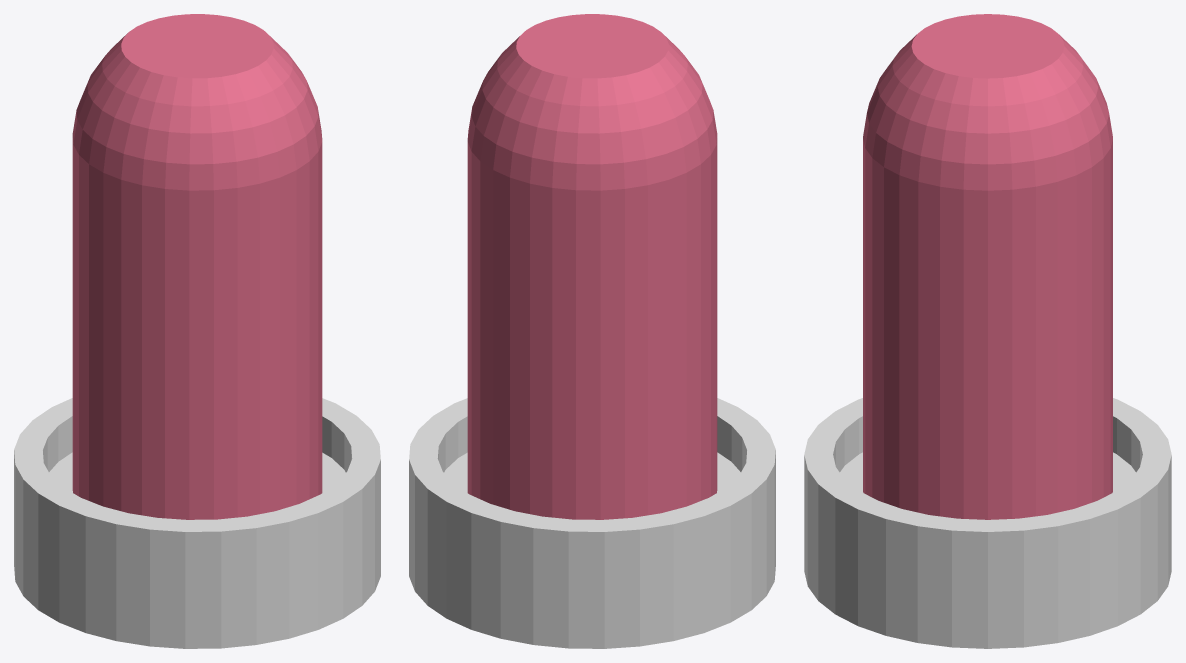
File: LED.fbx
3 views of the same model, side by side, from view 1: azimuth 30°, elevation 25°; view 2: azimuth 150°, elevation 25°; view 3: azimuth 270°, elevation 25° (orthographic).
Visible parts, largest first — view 1: LED; view 2: LED; view 3: LED.
Part boxes in pixels (x1,y1,x2,y2): LED: (14, 14, 380, 648); LED: (409, 14, 775, 648); LED: (804, 14, 1171, 648).
Bounding box in the file's own units: 0.6851 × 1.08 × 0.6851.
